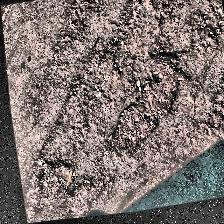pothole: (100, 50, 188, 154), (124, 0, 224, 64)
